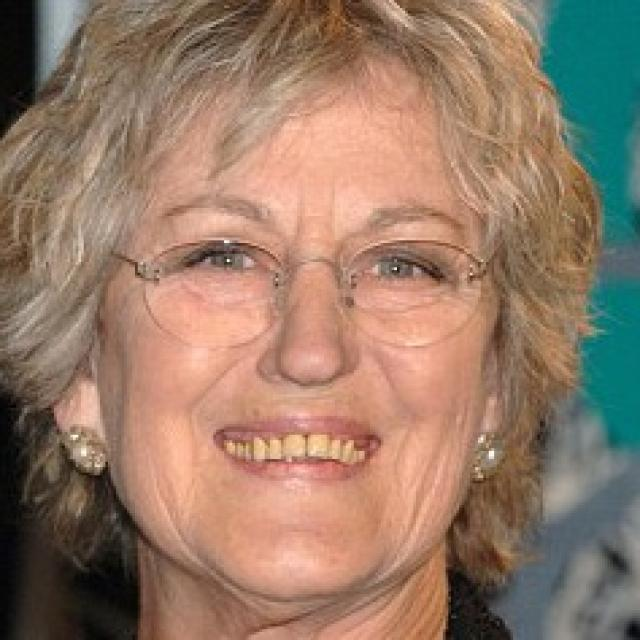Normal: (80, 46, 500, 594)
